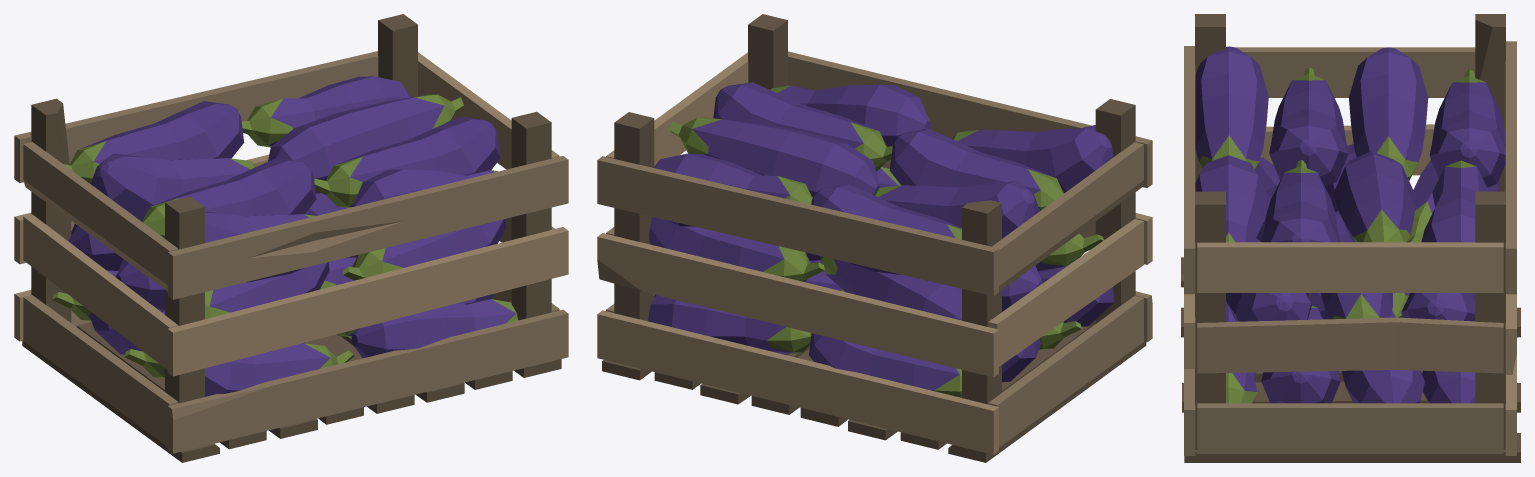
Rendered from SM_Props_Farm_Crate_Filled_Eggplant.fbx.
3 renders of one model, left to right at view 1: azimuth 30°, elevation 25°; view 2: azimuth 150°, elevation 25°; view 3: azimuth 270°, elevation 25°, orthographic. The views are drawn at different scales.
Parts seen in each view (by area): view 1: SM_Props_Farm_Crate_Filled_Eggplant; view 2: SM_Props_Farm_Crate_Filled_Eggplant; view 3: SM_Props_Farm_Crate_Filled_Eggplant.
Part boxes in pixels (box(x1,y1,x2,y2)): SM_Props_Farm_Crate_Filled_Eggplant: box(14, 14, 568, 462); SM_Props_Farm_Crate_Filled_Eggplant: box(597, 14, 1152, 462); SM_Props_Farm_Crate_Filled_Eggplant: box(1181, 14, 1520, 462).
Size of the model in its own units: 103 by 60.5 by 72.8.
